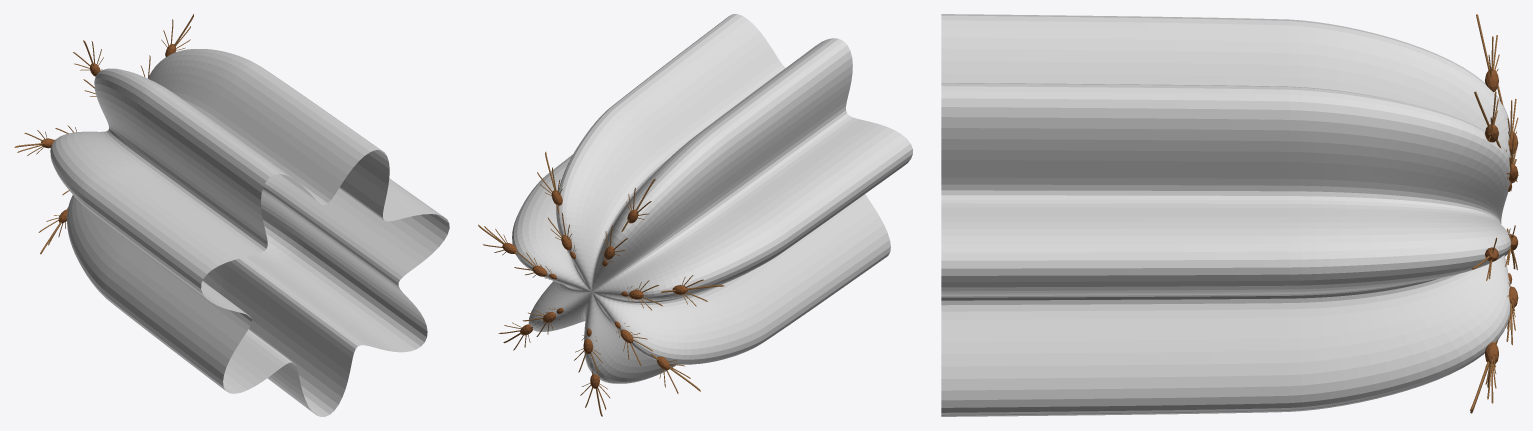
The model's file is frame-001.glb.
The picture shows the model from 3 angles, left to right: view 1: azimuth 30°, elevation 25°; view 2: azimuth 150°, elevation 25°; view 3: azimuth 270°, elevation 25°; orthographic projection. The views are drawn at different scales.
Visible parts, largest first — view 1: WACHUMA_Pachanoi_Frame_001; view 2: WACHUMA_Pachanoi_Frame_001; view 3: WACHUMA_Pachanoi_Frame_001.
Part boxes in pixels (<box>): WACHUMA_Pachanoi_Frame_001: <box>14,14,449,416</box>; WACHUMA_Pachanoi_Frame_001: <box>478,14,912,416</box>; WACHUMA_Pachanoi_Frame_001: <box>941,14,1518,416</box>.
Size of the model in its own units: 0.8375 by 0.8198 by 1.18.
